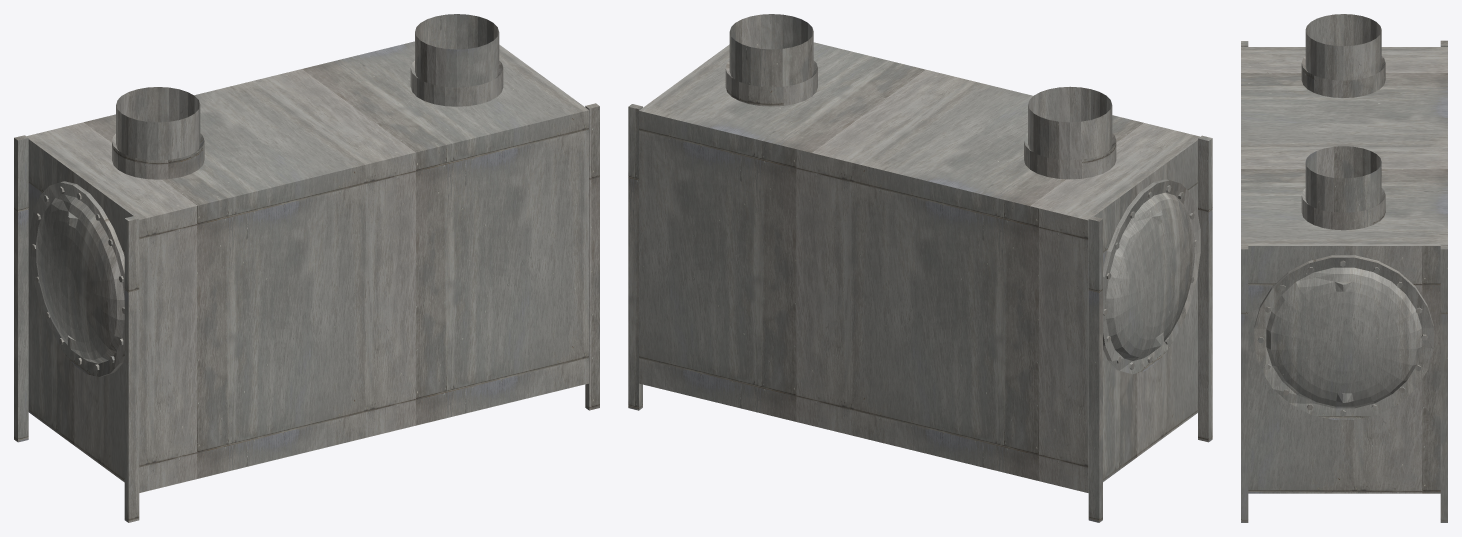
File: boiler_blender.obj
3 views of the same model, side by side, from view 1: azimuth 30°, elevation 25°; view 2: azimuth 150°, elevation 25°; view 3: azimuth 270°, elevation 25° (orthographic). The views are drawn at different scales.
Parts seen in each view (by area): view 1: Mesh_none; view 2: Mesh_none; view 3: Mesh_none.
Part boxes in pixels (x1=…): Mesh_none: x1=14, y1=14, x2=599, y2=522; Mesh_none: x1=628, y1=14, x2=1212, y2=522; Mesh_none: x1=1241, y1=14, x2=1447, y2=522.
Size of the model in its own units: 17.97 by 12.57 by 7.3.
